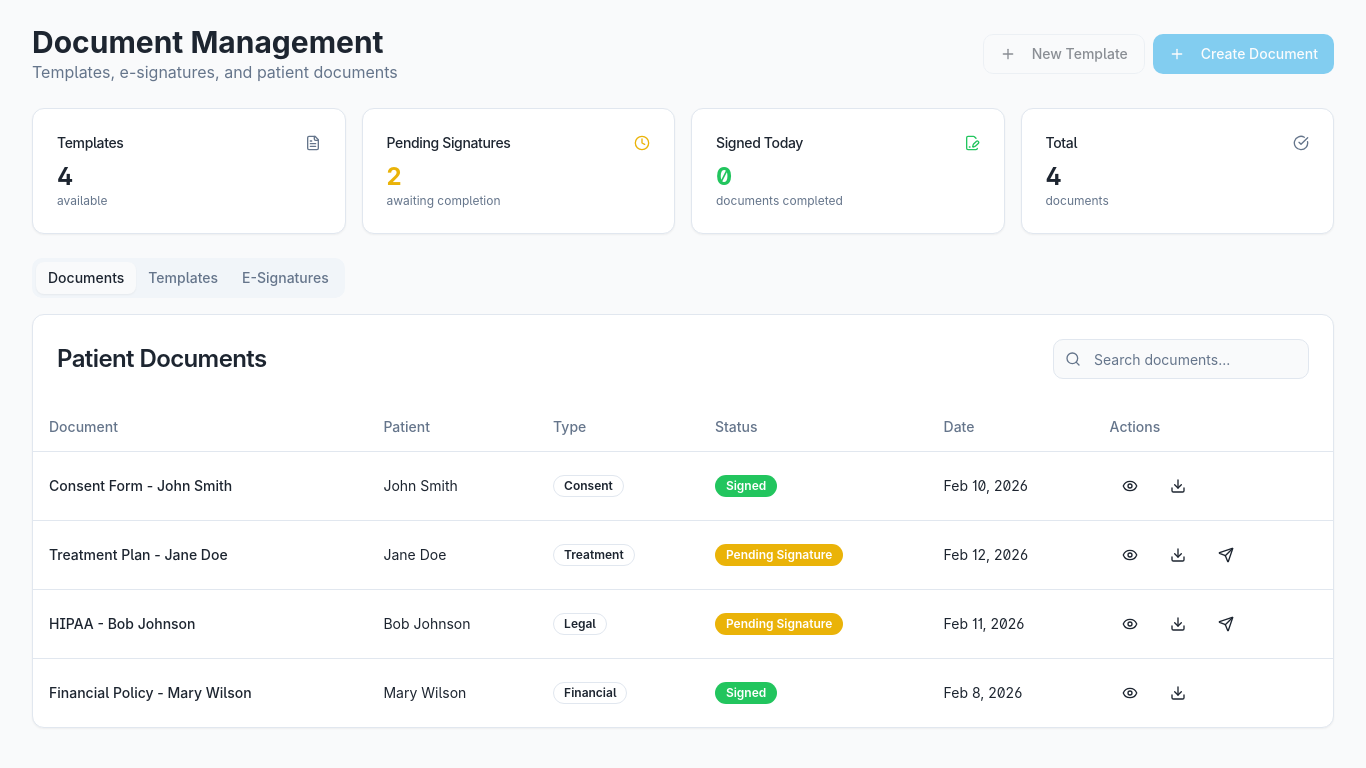
it: Documents Page › handles searching and tab switching
// Type in search
Type "consent" into the field with placeholder "Search documents...".
click(1181, 359); type("consent")  # box [1053,339,1309,379]
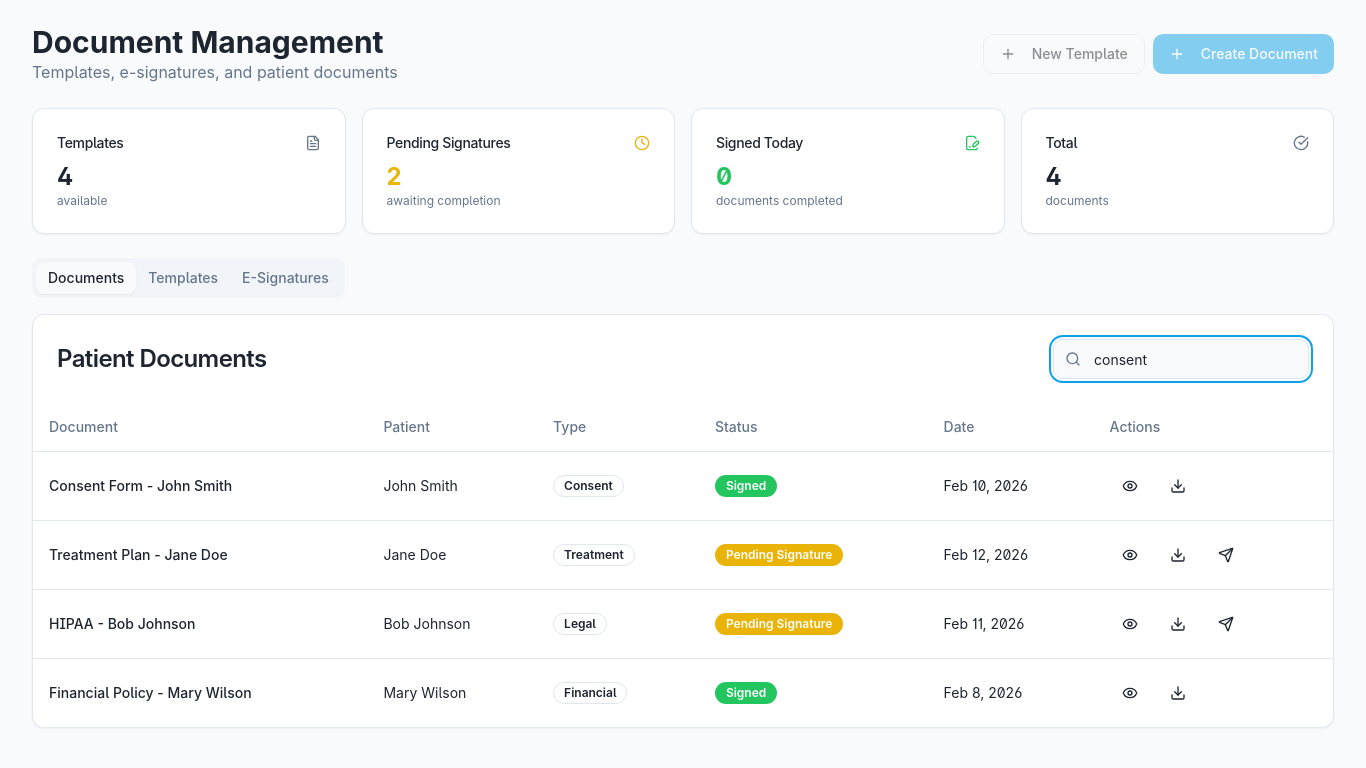
// Click Templates tab
Click the tab "Templates".
click(183, 278)  # box [136,262,230,294]
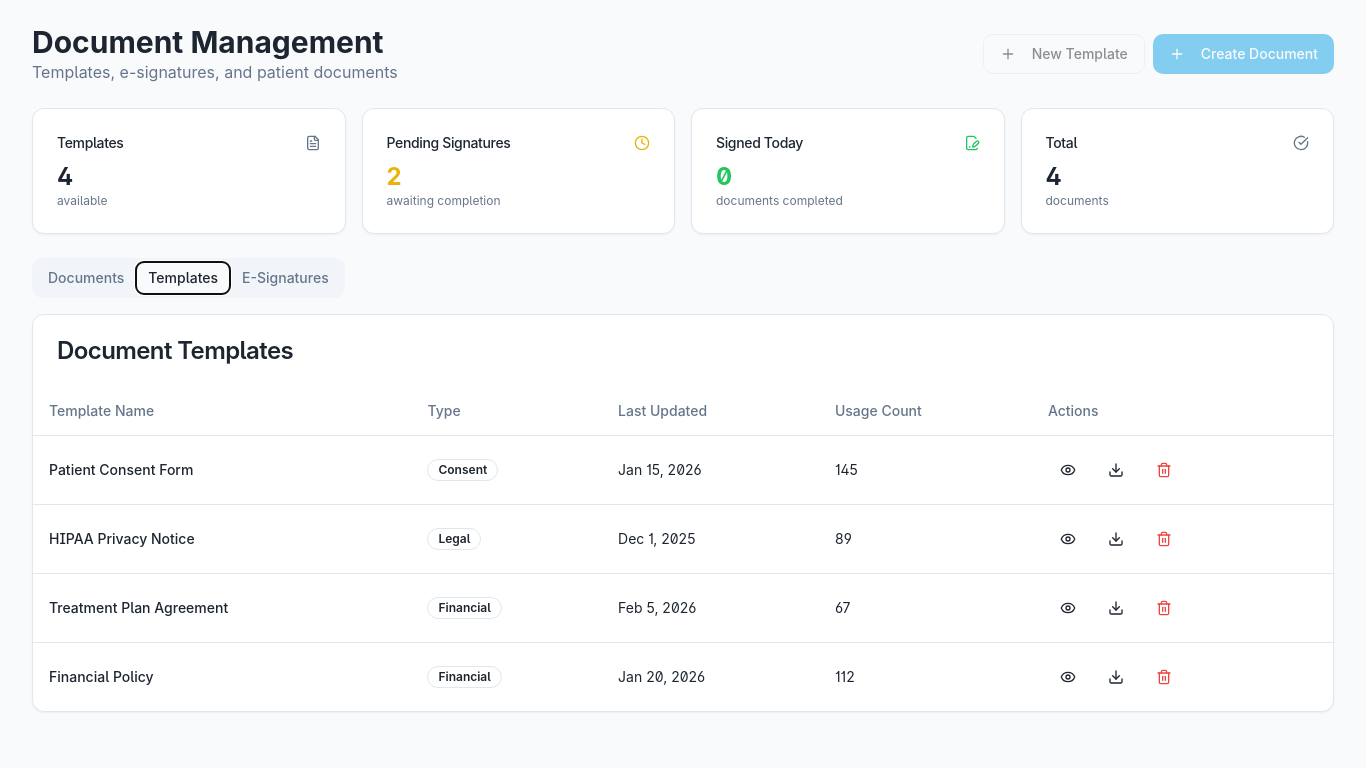
Now the text "Patient Consent Form" is shown, box [33,435,412,504]
// Click E-Signatures tab
Click the tab "E-Signatures".
click(285, 278)  # box [230,262,341,294]
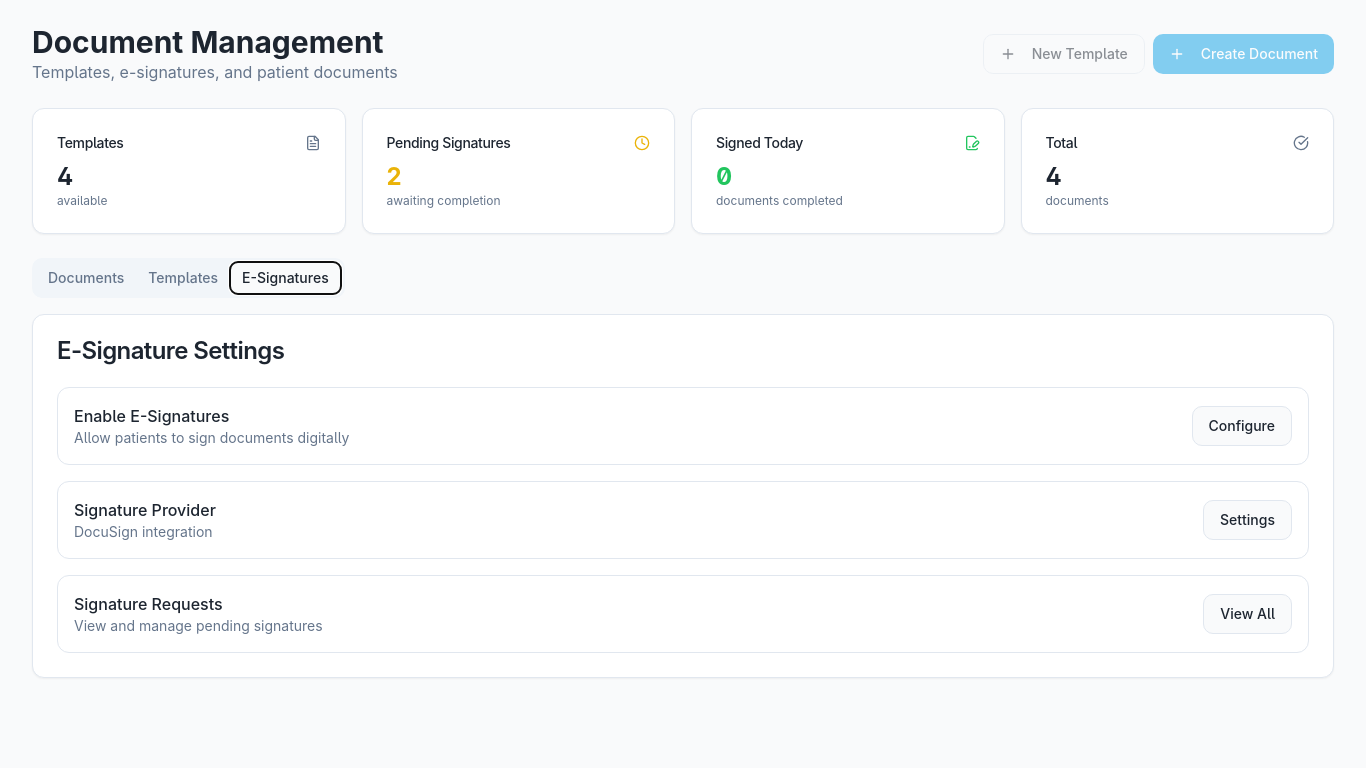
Now the text "Enable E-Signatures" is shown, box [74,406,229,426]
